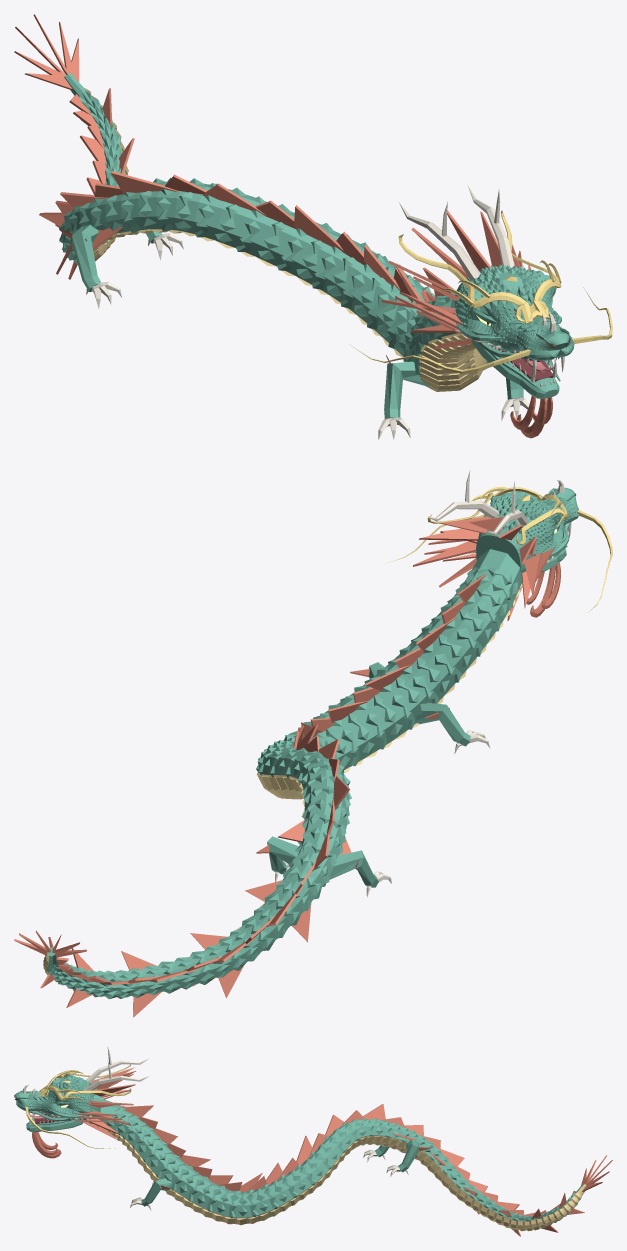
File: Dragon_Long_v13.glb
3 renders of one model, top to bottom at view 1: azimuth 30°, elevation 25°; view 2: azimuth 150°, elevation 25°; view 3: azimuth 270°, elevation 25°, orthographic. The views are drawn at different scales.
Visible parts, largest first — view 1: Body, Fins, Horns, Belly, Whiskers; view 2: Body, Fins, Horns, Whiskers, Belly; view 3: Body, Fins, Belly, Horns, Whiskers.
Part boxes in pixels (bbox=[...]): Body: bbox=[59, 72, 574, 418]; Fins: bbox=[14, 14, 552, 438]; Horns: bbox=[86, 185, 564, 439]; Belly: bbox=[84, 88, 486, 391]; Whiskers: bbox=[349, 210, 612, 373]; Body: bbox=[46, 487, 578, 998]; Fins: bbox=[14, 516, 560, 1017]; Horns: bbox=[275, 470, 571, 897]; Whiskers: bbox=[387, 486, 612, 611]; Belly: bbox=[43, 583, 522, 997]; Body: bbox=[14, 1075, 584, 1230]; Fins: bbox=[32, 1067, 612, 1236]; Belly: bbox=[89, 1122, 586, 1231]; Horns: bbox=[22, 1047, 408, 1210]; Whiskers: bbox=[25, 1064, 131, 1148].
Bounding box in the file's own units: 14.48 × 19.17 × 58.04.
